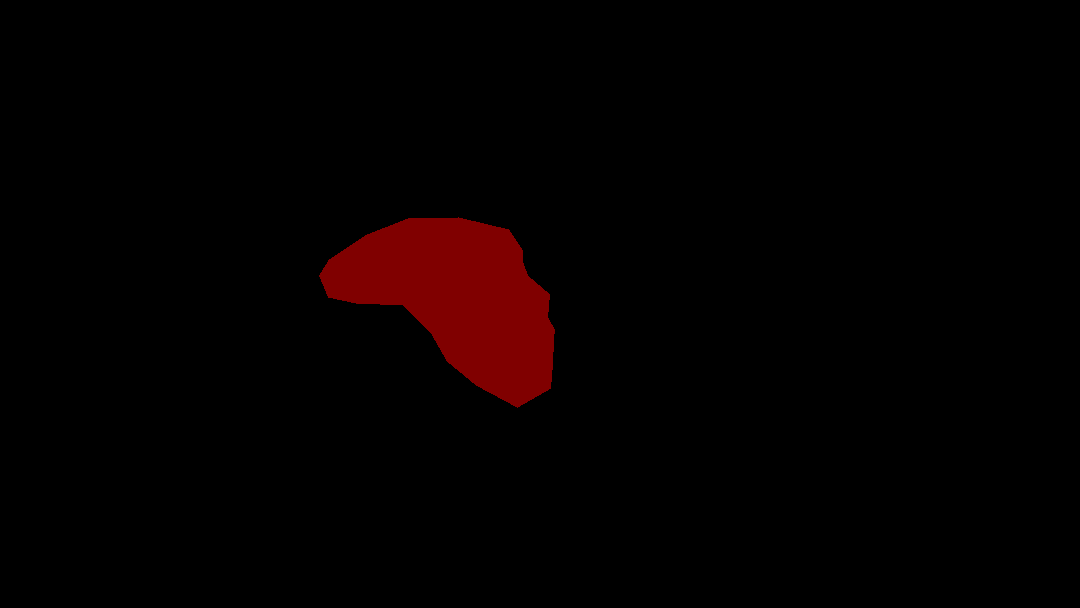fire: (319, 217, 554, 407)
